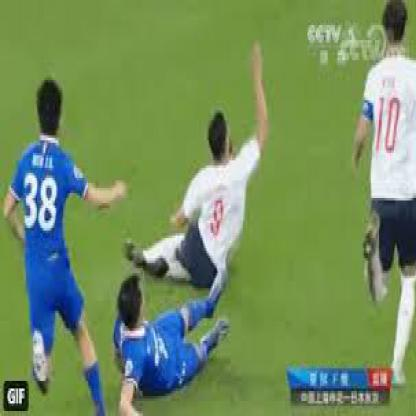Fall_Down: (124, 44, 270, 290)
